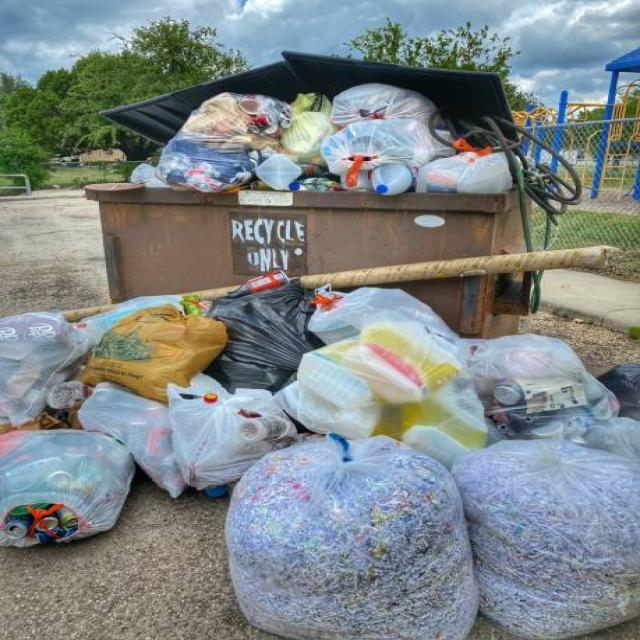garbage: (99, 270, 587, 442), (228, 442, 468, 637), (134, 84, 517, 191), (462, 441, 640, 640), (0, 424, 132, 558), (0, 309, 98, 429), (586, 358, 640, 441)
